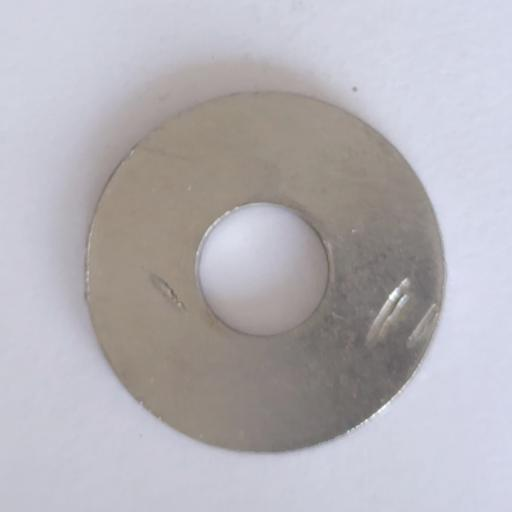scratch: (364, 277, 414, 348), (144, 271, 191, 313), (406, 302, 440, 349)
